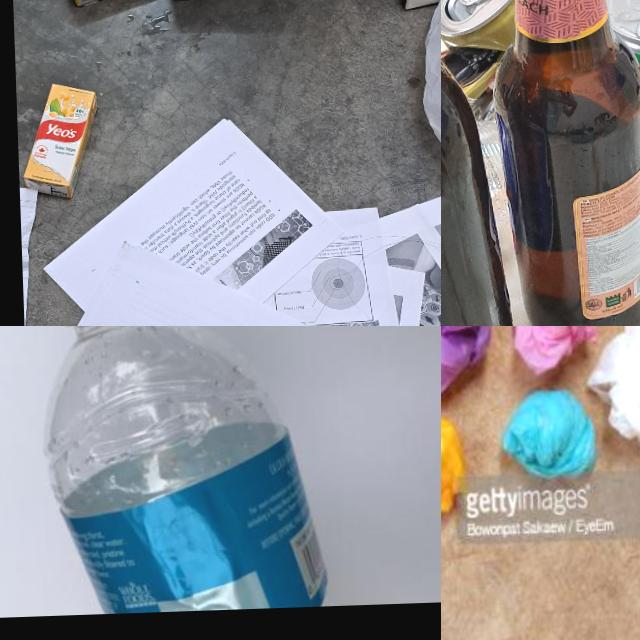caixinha: (20, 79, 100, 201)
garrafa de vidro: (497, 0, 640, 326), (441, 0, 522, 326)
garrafa plástica: (38, 326, 331, 614)
papel: (29, 109, 441, 326), (19, 182, 45, 326)
sacola plástica: (497, 386, 618, 498), (588, 326, 640, 483), (441, 396, 482, 579), (441, 326, 509, 418), (498, 326, 603, 368), (419, 0, 441, 179)
